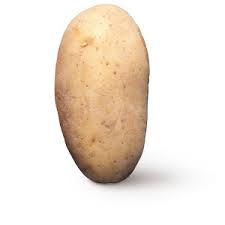potato: (55, 3, 150, 184)
